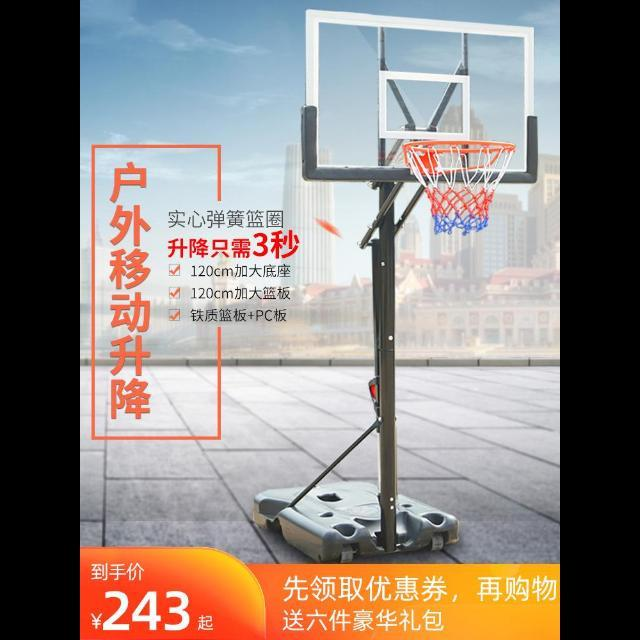rim: (404, 138, 514, 232)
